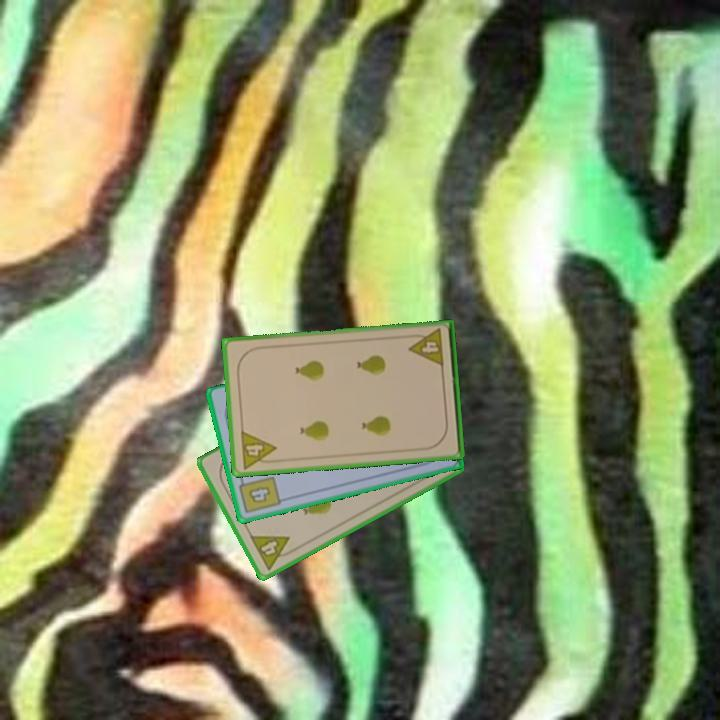4b: (236, 473, 284, 517)
4p: (246, 532, 299, 573), (237, 427, 280, 472), (405, 325, 447, 370)
